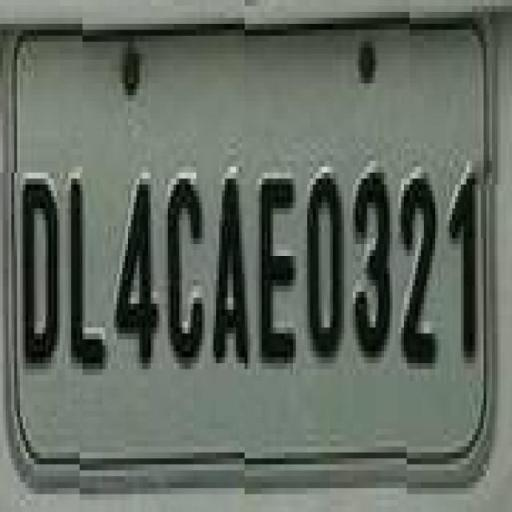number plate: (6, 18, 484, 470)
